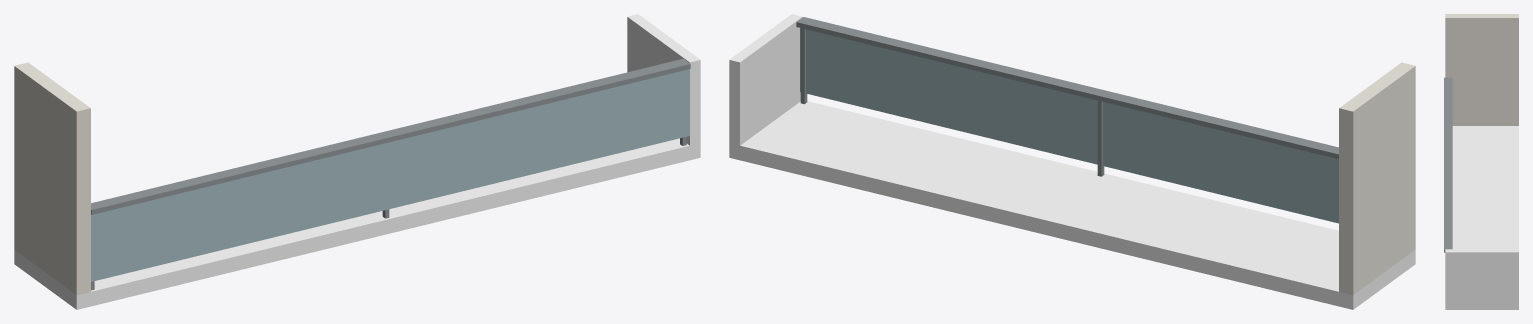
File: balcony-glass.glb
3 views of the same model, side by side, from view 1: azimuth 30°, elevation 25°; view 2: azimuth 150°, elevation 25°; view 3: azimuth 270°, elevation 25° (orthographic). The views are drawn at different scales.
Visible parts, largest first — view 1: railing_glass, wall (×2), stone, rail; view 2: wall (×2), railing_glass, stone, rail (×3); view 3: wall (×2), stone, rail.
Part boxes in pixels (x1=…): railing_glass: x1=91, y1=69, x2=689, y2=281; wall (×2): x1=14, y1=14, x2=700, y2=309; stone: x1=14, y1=62, x2=90, y2=294; rail: x1=91, y1=58, x2=690, y2=214; wall (×2): x1=729, y1=14, x2=1415, y2=309; railing_glass: x1=800, y1=28, x2=1338, y2=223; stone: x1=1339, y1=62, x2=1415, y2=294; rail (×3): x1=796, y1=17, x2=1338, y2=176; wall (×2): x1=1445, y1=126, x2=1518, y2=309; stone: x1=1445, y1=14, x2=1518, y2=125; rail: x1=1444, y1=77, x2=1452, y2=252.
Bounding box in the file's own units: 8 × 2.43 × 1.41.
